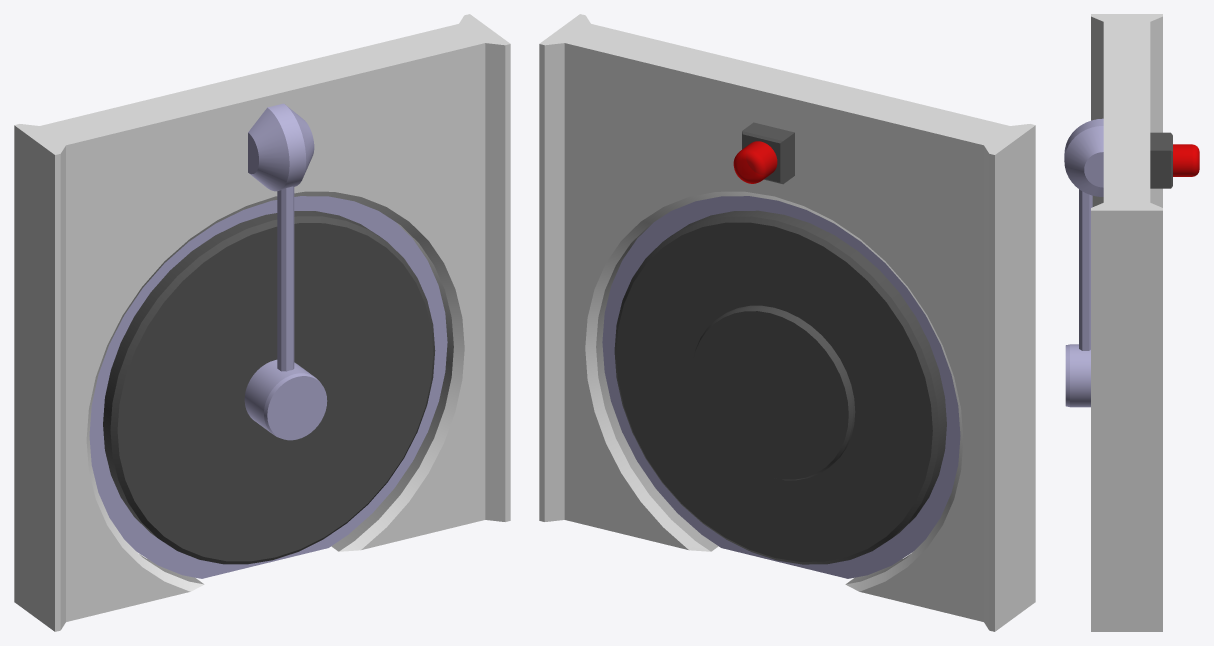
File: door.fbx
The picture shows the model from 3 angles, left to right: view 1: azimuth 30°, elevation 25°; view 2: azimuth 150°, elevation 25°; view 3: azimuth 270°, elevation 25°; orthographic projection. The views are drawn at different scales.
Visible parts, largest first — view 1: pCube172, pCylinder62, pCylinder73, pCylinder65, pCylinder63, pCube174; view 2: pCube172, pCylinder62, pCylinder66, pCylinder73, pCube175, pCylinder64; view 3: pCube172, pCylinder63, pCube174, pCylinder65, pCube175, pCylinder64.
Boxes of the visible parts, bbox=[...] form: pCube172: bbox=[14, 14, 510, 631]; pCylinder62: bbox=[103, 211, 435, 564]; pCylinder73: bbox=[89, 196, 447, 578]; pCylinder65: bbox=[244, 359, 327, 440]; pCylinder63: bbox=[248, 103, 314, 191]; pCube174: bbox=[277, 186, 294, 371]; pCube172: bbox=[539, 14, 1035, 631]; pCylinder62: bbox=[614, 210, 946, 564]; pCylinder66: bbox=[691, 305, 855, 480]; pCylinder73: bbox=[602, 196, 960, 578]; pCube175: bbox=[742, 122, 794, 184]; pCylinder64: bbox=[733, 141, 777, 183]; pCube172: bbox=[1091, 14, 1162, 631]; pCylinder63: bbox=[1064, 118, 1103, 196]; pCube174: bbox=[1079, 189, 1092, 350]; pCylinder65: bbox=[1065, 344, 1090, 407]; pCube175: bbox=[1150, 132, 1172, 188]; pCylinder64: bbox=[1173, 144, 1199, 176].
Bounding box in the file's own units: 5 × 5 × 1.45.
